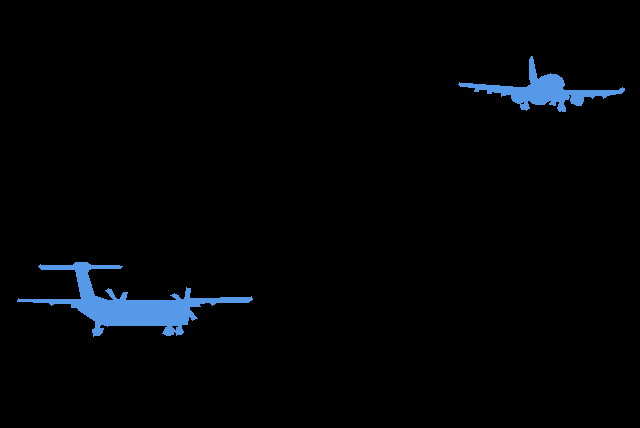Airplane: (17, 56, 624, 337)
